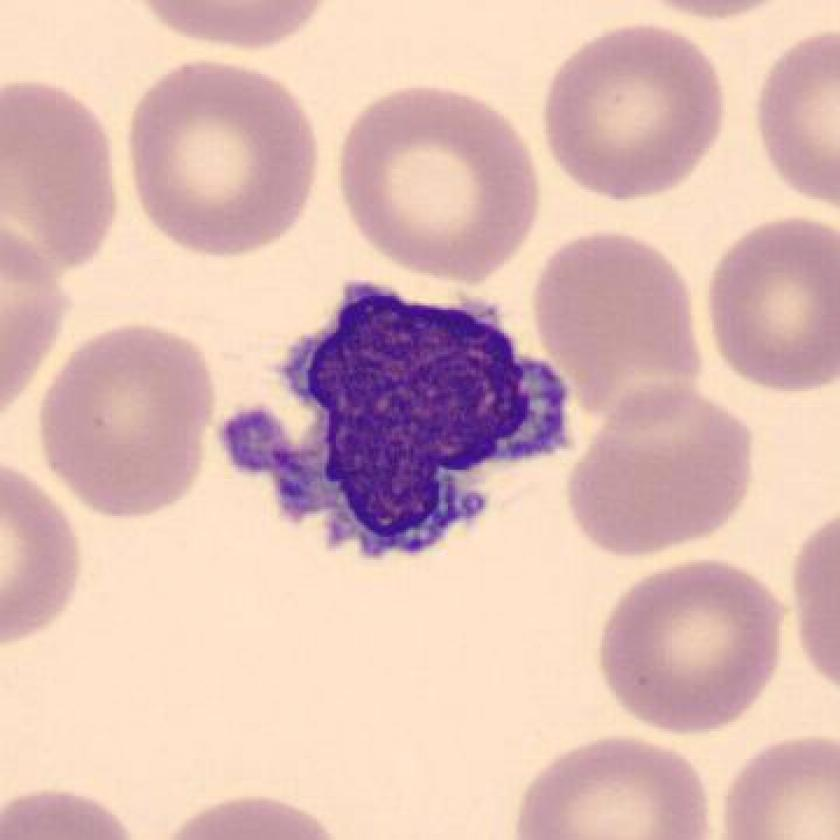lymphocyte: (213, 269, 587, 589)
